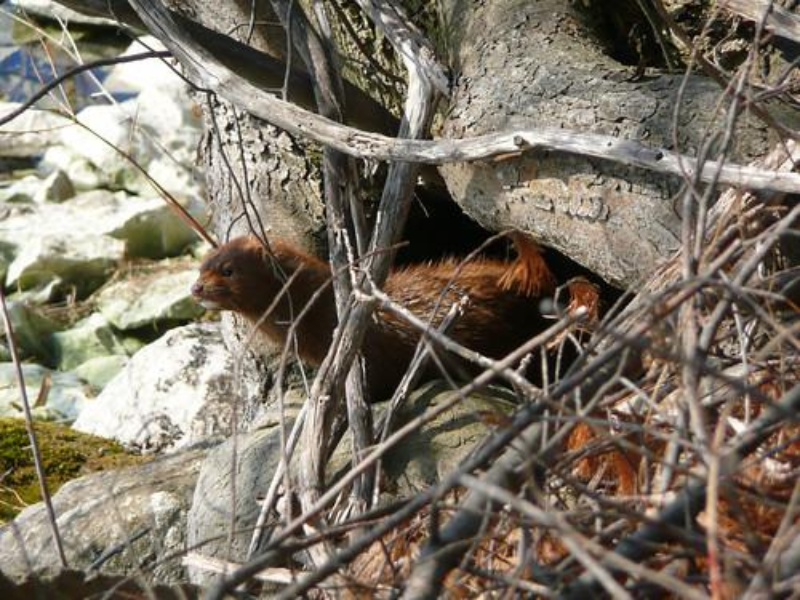minkish: (191, 235, 556, 401)
